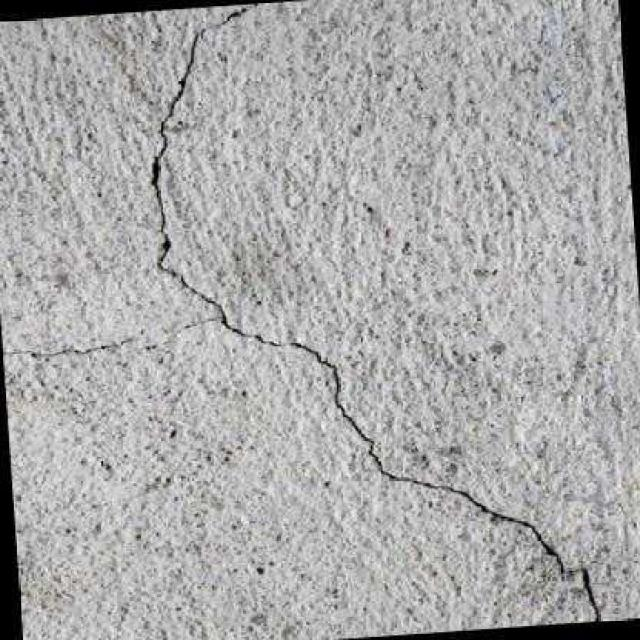D00: (149, 4, 599, 622)
